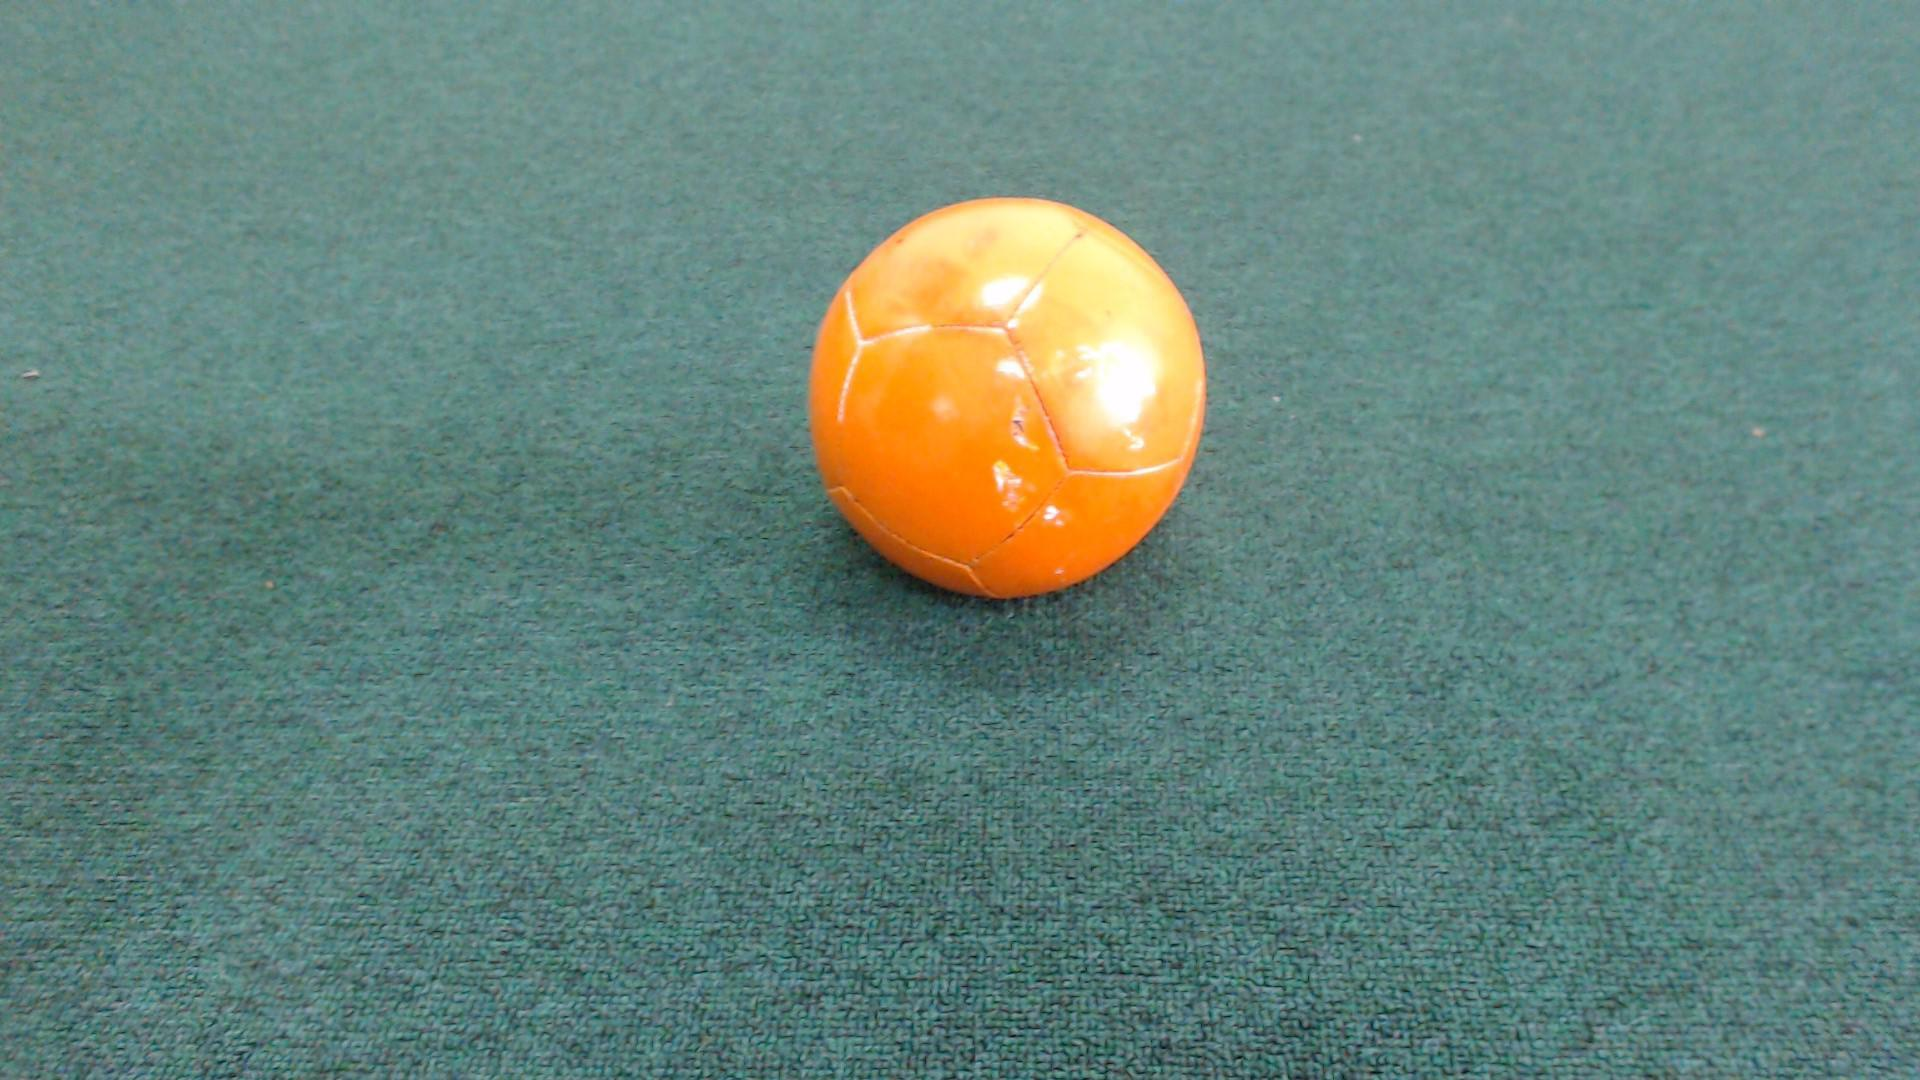bola: (782, 195, 1222, 620)
